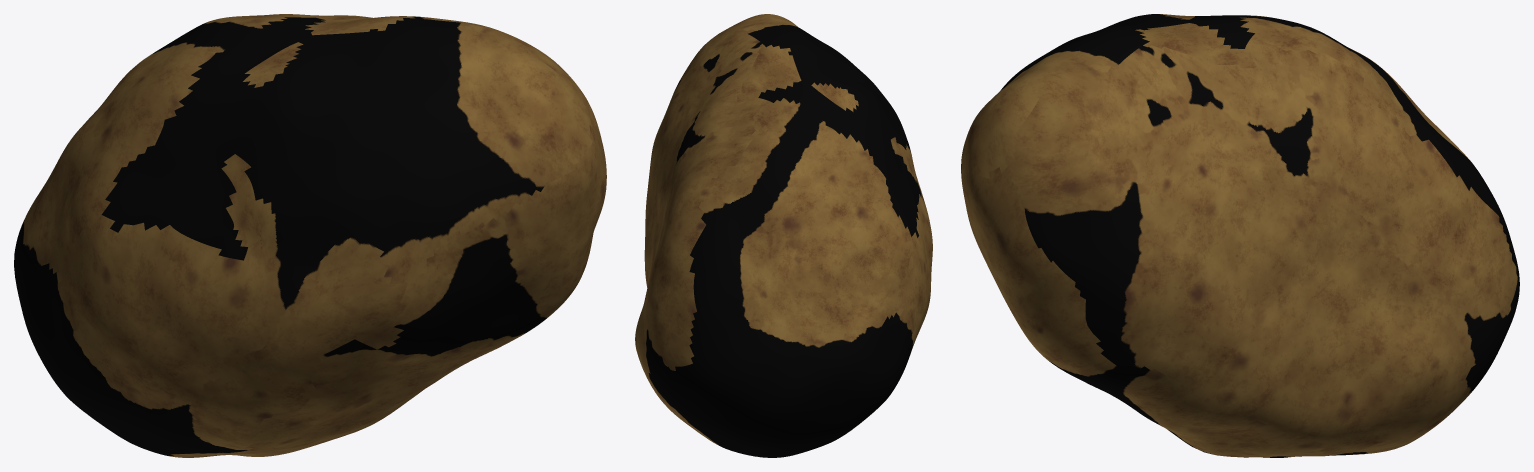
3 renders of one model, left to right at view 1: azimuth 30°, elevation 25°; view 2: azimuth 150°, elevation 25°; view 3: azimuth 270°, elevation 25°, orthographic. The views are drawn at different scales.
Visible parts, largest first — view 1: original_ico.021; view 2: original_ico.021; view 3: original_ico.021.
Boxes of the visible parts, x1,y1,x2,y2 form: original_ico.021: (14,14,606,457); original_ico.021: (635,14,932,457); original_ico.021: (961,14,1519,457).
Size of the model in its own units: 2.57 by 2.69 by 3.
